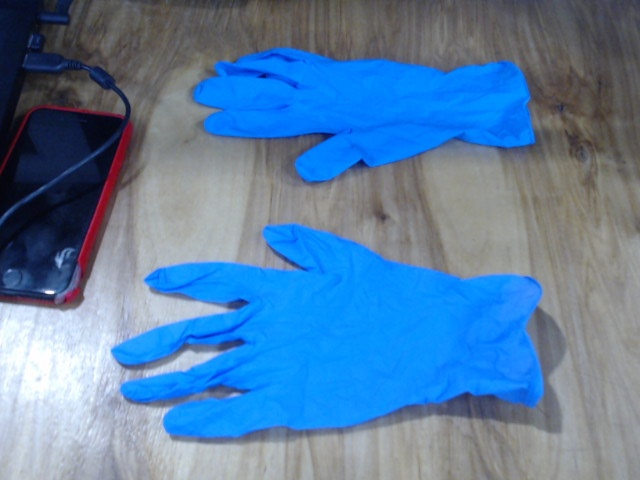medical_glove: (112, 222, 544, 437), (193, 47, 535, 181)
